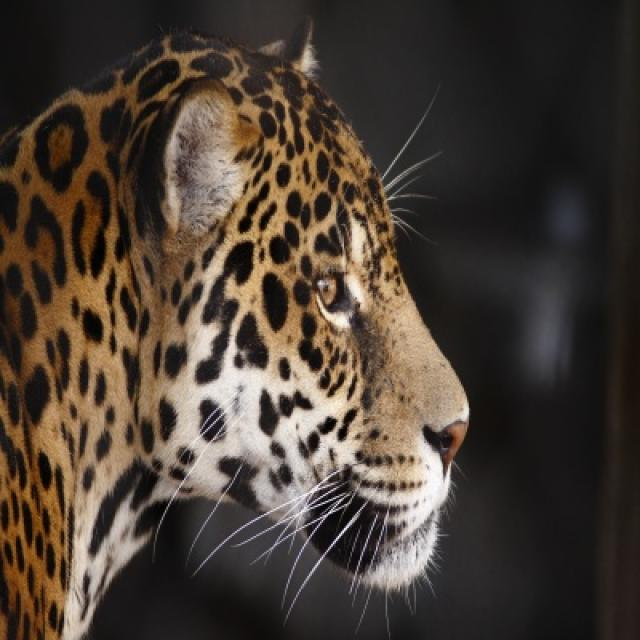Jaguar: (0, 19, 470, 638)
